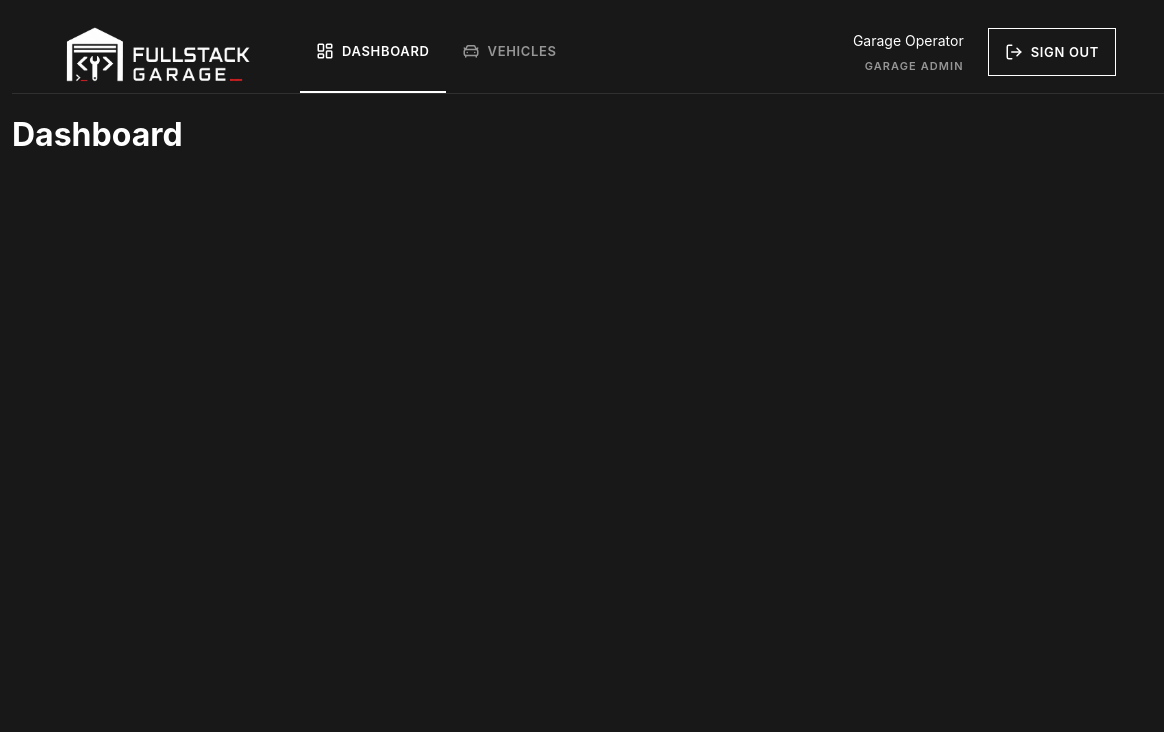
Test case: protected application routes › hides the authenticated shell as soon as controller sign-out begins
The image size is (1164, 732).
Click the button with aria-label "Sign out Garage Operator" at (1052, 52), box left=988, top=28, right=1116, bottom=76
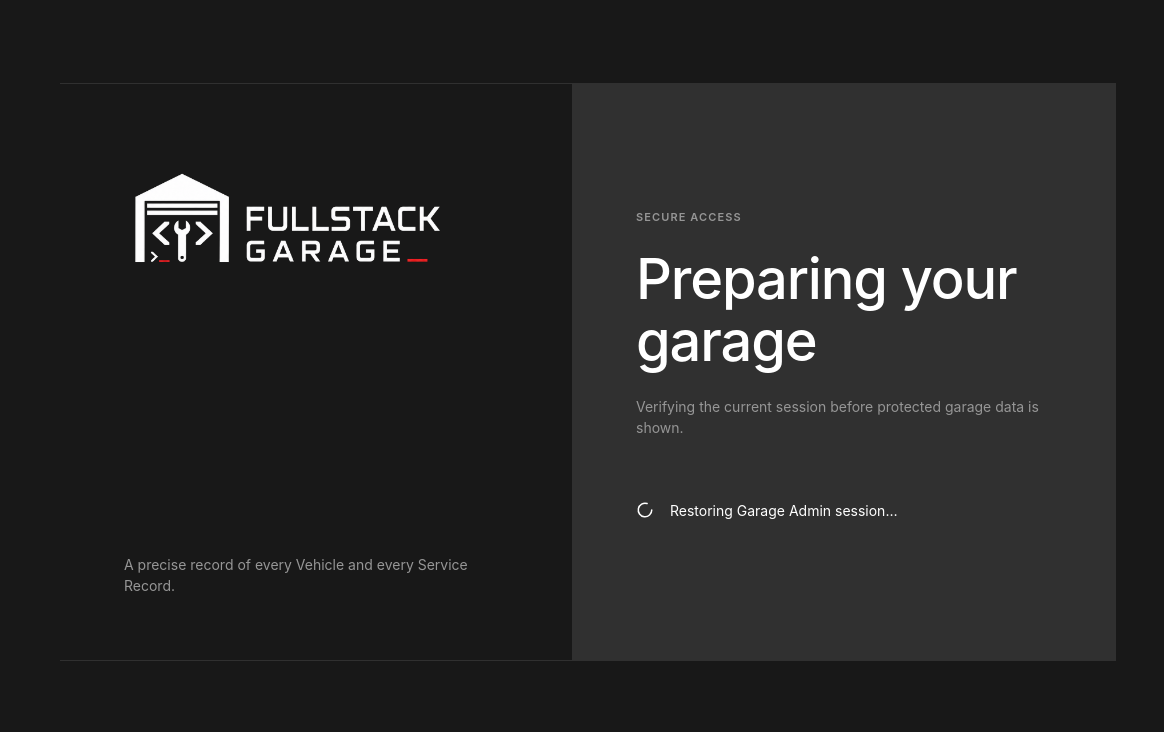
Check: the message named "Loading Fullstack Garage" is shown, box left=636, top=501, right=898, bottom=519
